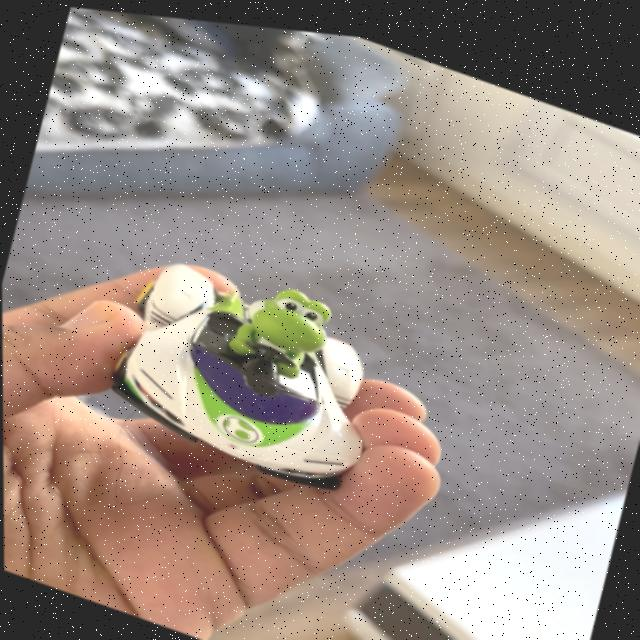yoshi: (87, 218, 414, 509)
